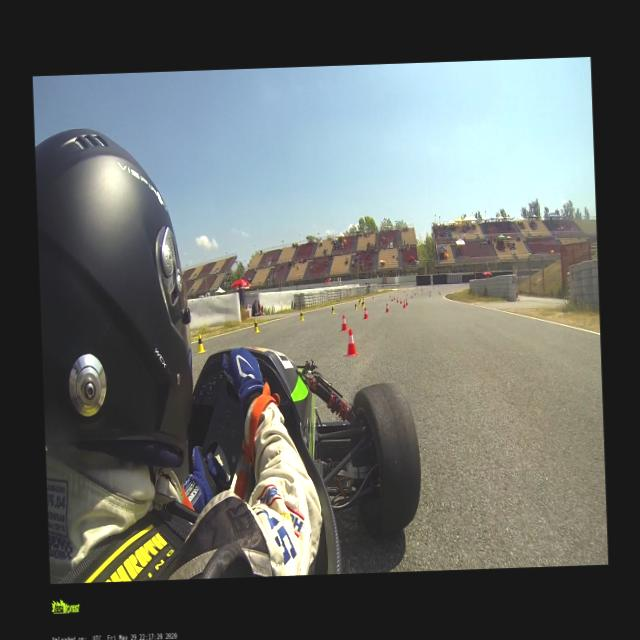orange_cone: (346, 328, 358, 356), (341, 314, 347, 330), (363, 307, 368, 319), (386, 302, 388, 312), (399, 298, 402, 304), (406, 298, 408, 306), (403, 300, 405, 307)
yellow_cone: (197, 333, 204, 352), (252, 318, 259, 332), (300, 310, 304, 320), (330, 304, 334, 314), (354, 302, 356, 310), (363, 300, 364, 306), (358, 298, 359, 304), (360, 298, 360, 303), (362, 300, 362, 308)
